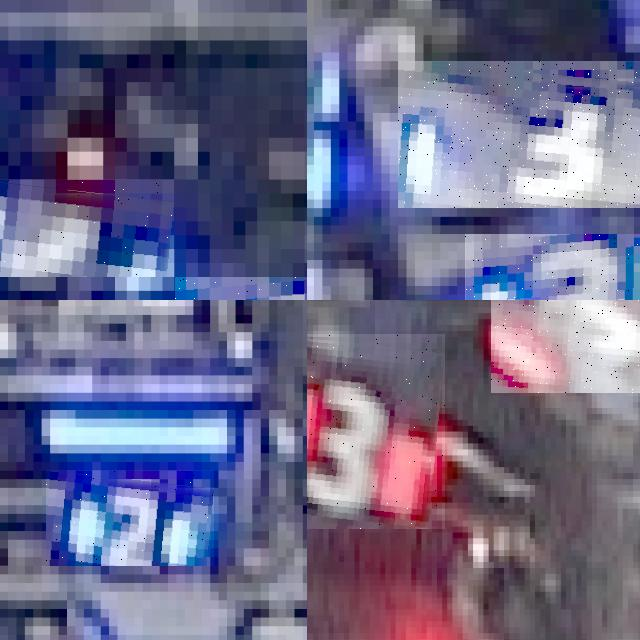B2: (46, 470, 214, 566)
B3: (398, 61, 640, 208), (0, 179, 174, 276), (465, 234, 640, 300)
R3: (307, 333, 444, 529), (491, 300, 640, 393)
